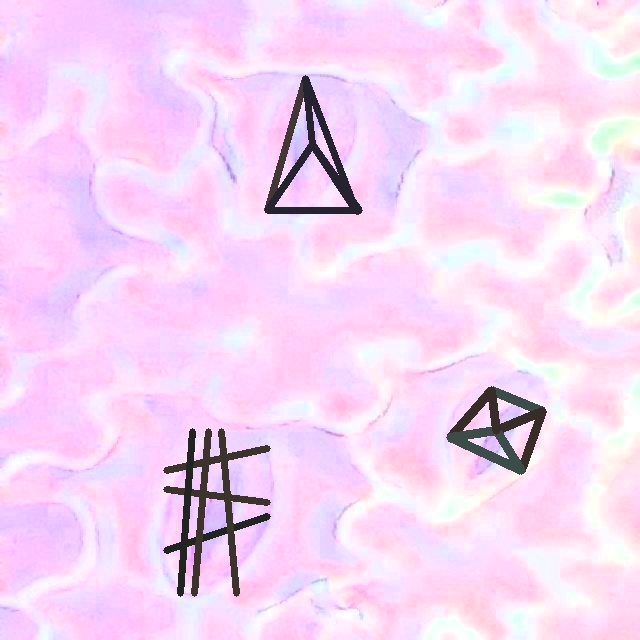open: (163, 428, 270, 596), (264, 75, 359, 213), (446, 387, 546, 474)
